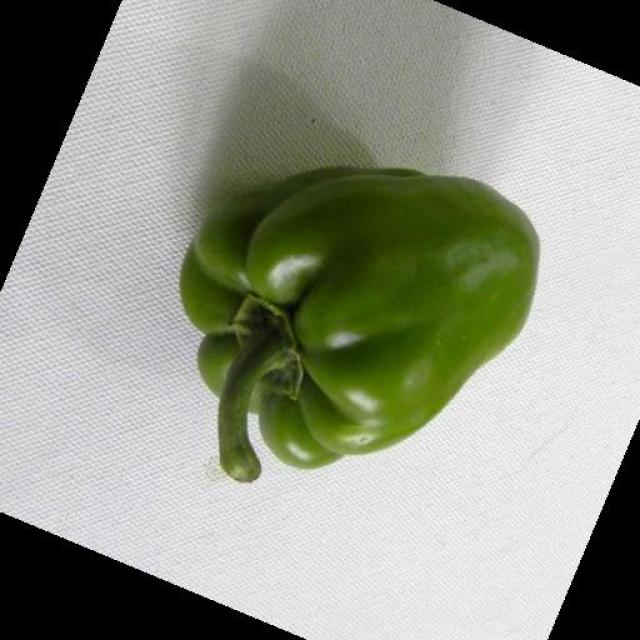Fresh_Capsicum: (182, 156, 548, 496)
